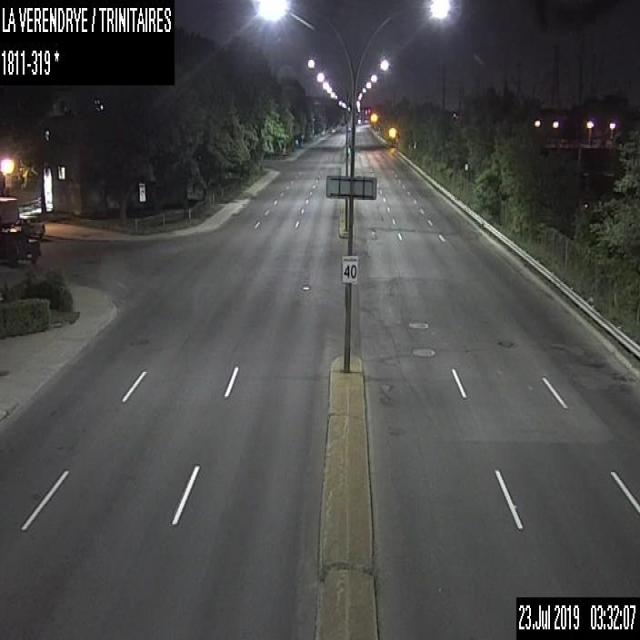vehicle: (0, 230, 40, 265), (10, 215, 44, 238), (0, 195, 18, 229)
